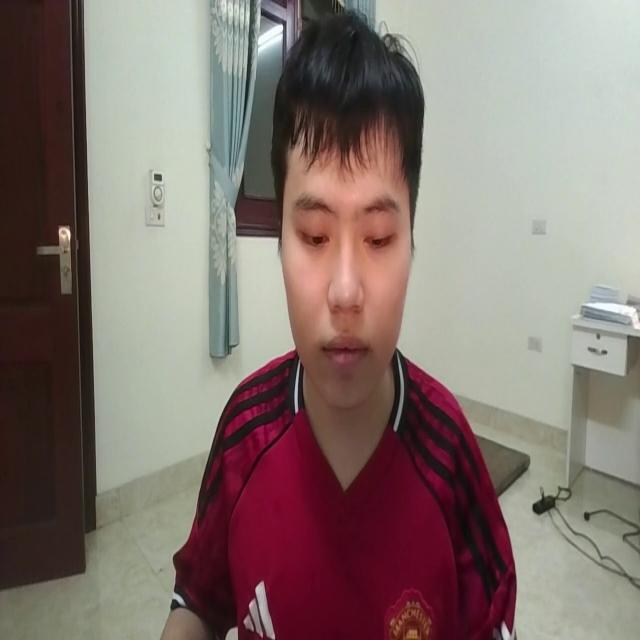student: (164, 9, 518, 640)
